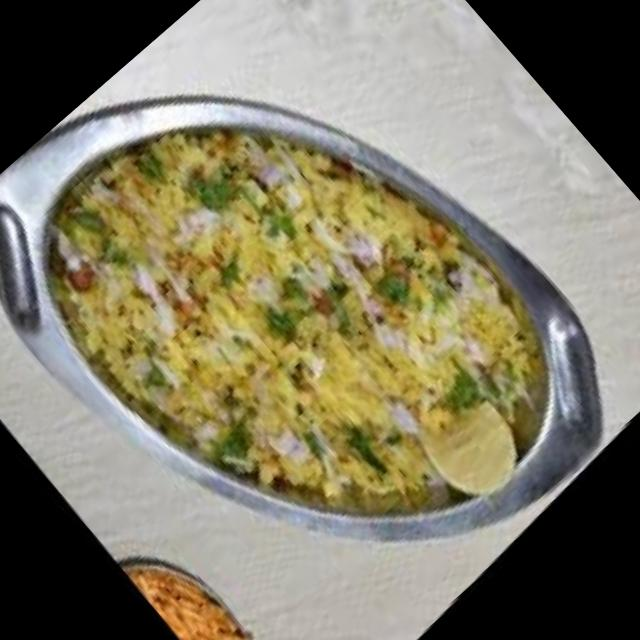poha: (0, 5, 621, 640)
